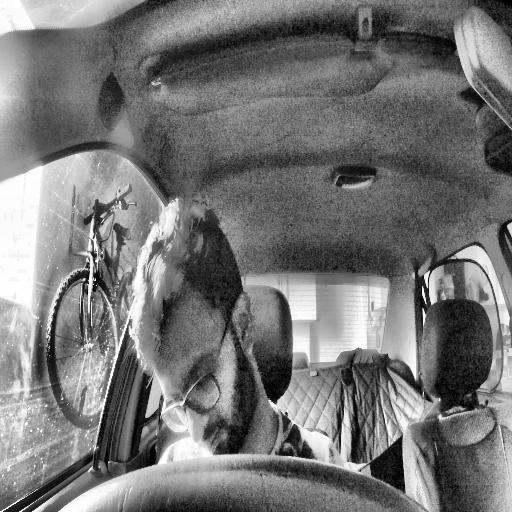drowsy: (132, 196, 256, 454)
